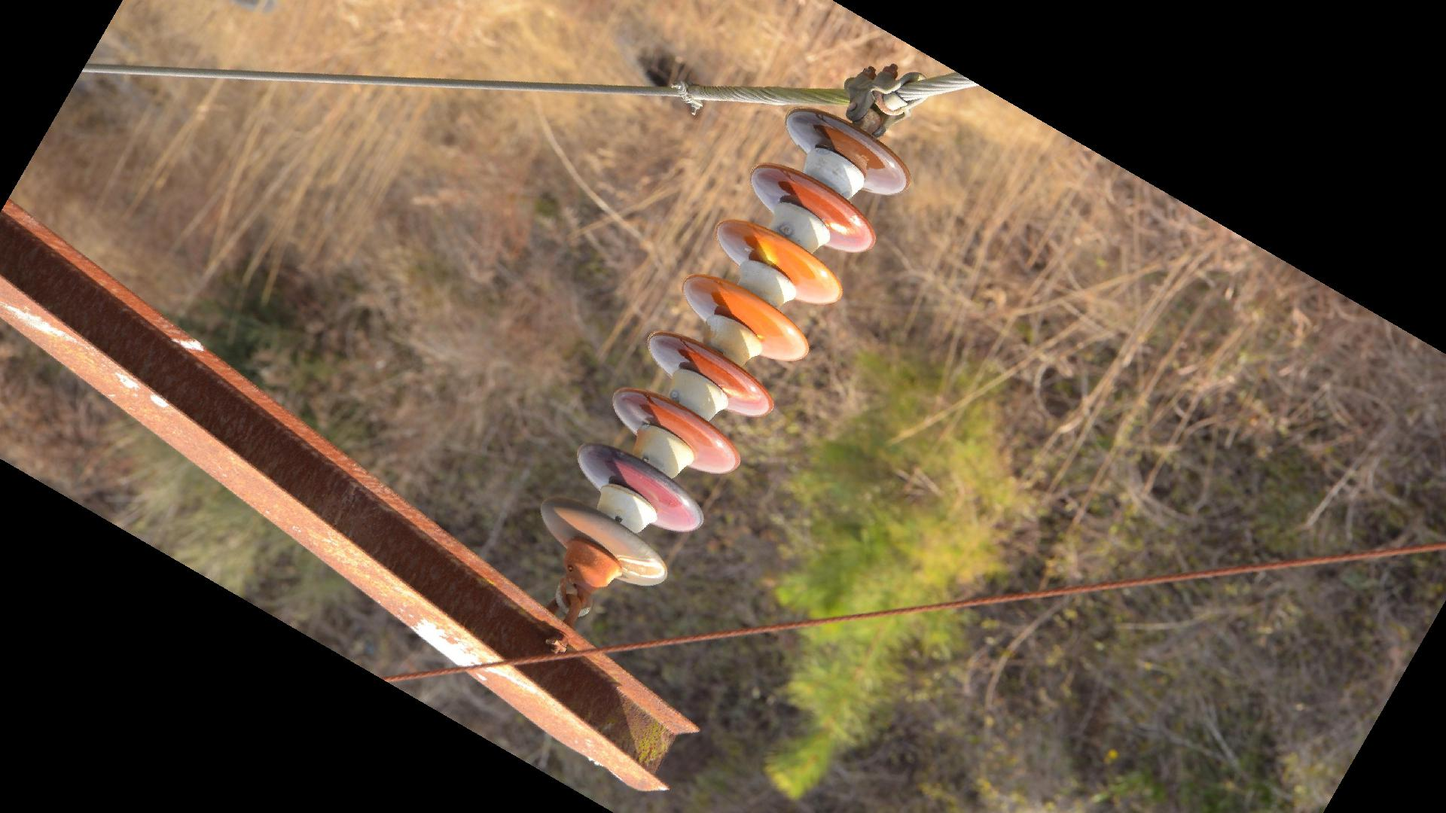insulator: (536, 102, 919, 594)
insulator_flashover: (616, 553, 668, 580), (718, 383, 762, 403), (754, 237, 781, 267), (827, 219, 860, 238)
